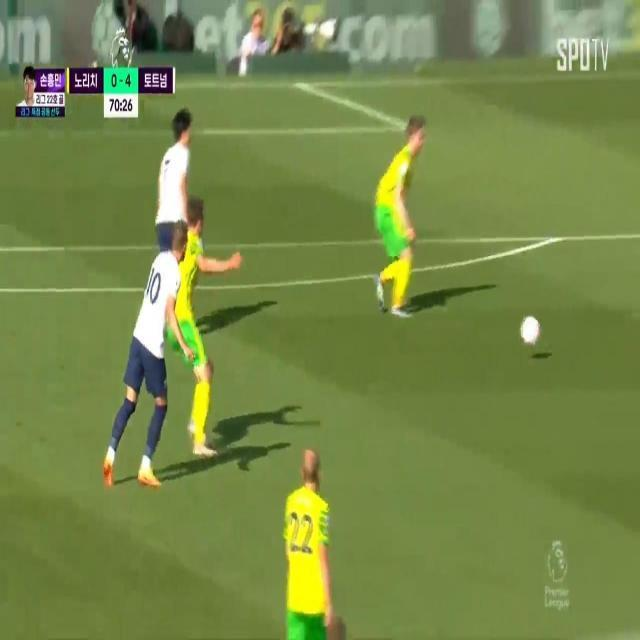ball: (520, 302, 540, 351)
player: (102, 215, 189, 487), (172, 203, 223, 466), (377, 112, 425, 319), (284, 445, 331, 640), (153, 102, 202, 264)
